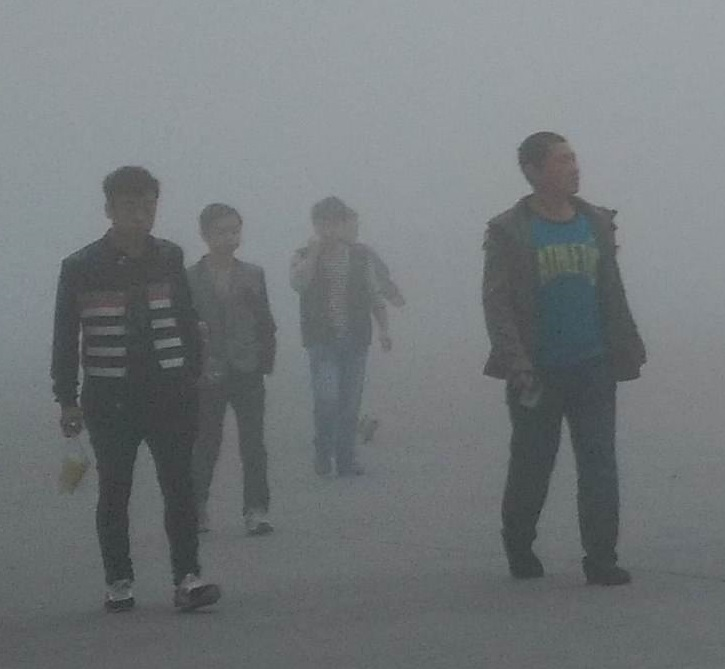person: (47, 159, 229, 615), (478, 128, 649, 592), (178, 202, 282, 539), (287, 196, 410, 478)
